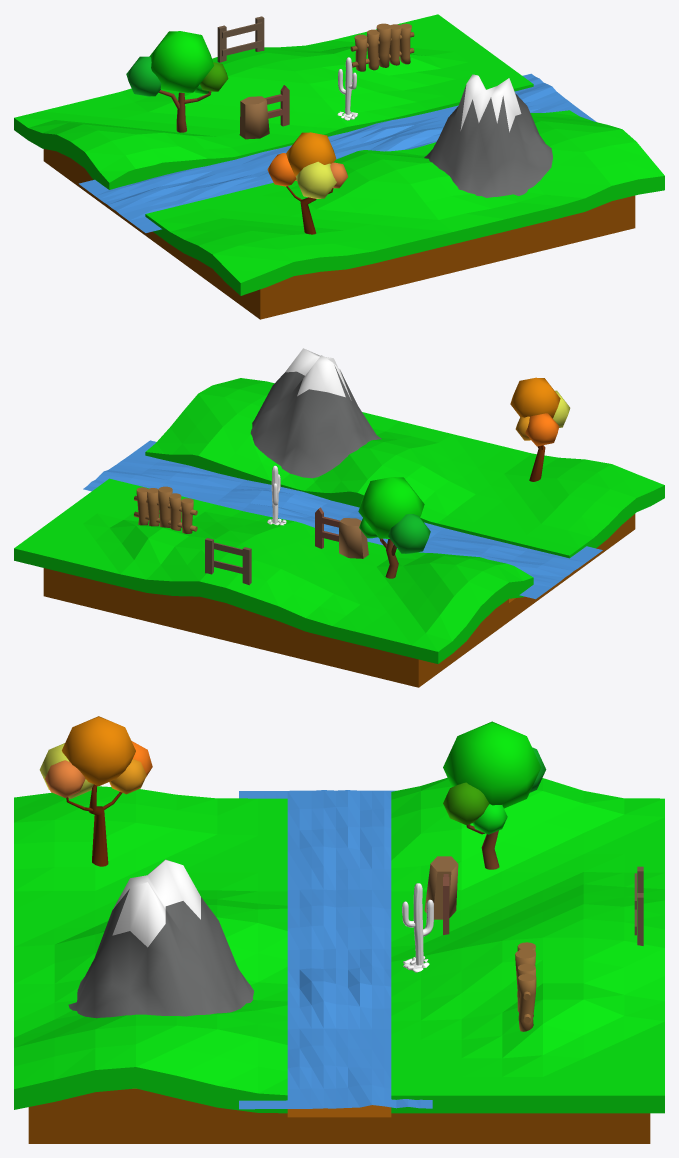
The picture shows the model from 3 angles, top to bottom: view 1: azimuth 30°, elevation 25°; view 2: azimuth 150°, elevation 25°; view 3: azimuth 270°, elevation 25°; orthographic projection. The views are drawn at different scales.
Visible parts, largest first — view 1: Dirt, hill, leaf_4.001, fence25, leaf_5, bark.002, fence10, leaf, leaf.001, cactus_1.1, leaf_3, fence06 (+3 smaller); view 2: Dirt, hill, leaf_4.001, fence25, leaf_5, leaf.001, fence10, bark.002, leaf_3, fence06, cactus_1.1; view 3: Dirt, hill, leaf_4.001, leaf_5, fence25, cactus_1.1, bark.002, leaf_3.001, bark, leaf_4, leaf_2, fence10 (+2 smaller).
Boxes of the visible parts, left/top/right/bottom form: Dirt: left=14, top=14, right=664, bottom=319; hill: left=424, top=74, right=552, bottom=197; leaf_4.001: left=149, top=31, right=213, bottom=92; fence25: left=350, top=23, right=414, bottom=71; leaf_5: left=286, top=132, right=336, bottom=176; bark.002: left=239, top=96, right=269, bottom=139; fence10: left=217, top=16, right=264, bottom=62; leaf: left=296, top=161, right=336, bottom=198; leaf.001: left=126, top=56, right=161, bottom=96; cactus_1.1: left=337, top=57, right=358, bottom=120; leaf_3: left=267, top=153, right=296, bottom=186; fence06: left=264, top=85, right=289, bottom=126; Dirt: left=14, top=378, right=664, bottom=687; hill: left=250, top=348, right=381, bottom=478; leaf_4.001: left=358, top=477, right=424, bottom=538; fence25: left=134, top=486, right=197, bottom=533; leaf_5: left=510, top=377, right=560, bottom=418; leaf.001: left=388, top=514, right=430, bottom=553; fence10: left=205, top=538, right=251, bottom=585; bark.002: left=339, top=518, right=368, bottom=558; leaf_3: left=525, top=413, right=559, bottom=446; fence06: left=315, top=507, right=339, bottom=548; cactus_1.1: left=267, top=465, right=286, bottom=525; Dirt: left=14, top=777, right=664, bottom=1143; hill: left=68, top=859, right=253, bottom=1018; leaf_4.001: left=443, top=721, right=541, bottom=808; leaf_5: left=62, top=716, right=135, bottom=786; fence25: left=515, top=942, right=536, bottom=1031; cactus_1.1: left=402, top=883, right=433, bottom=972; bark.002: left=424, top=856, right=458, bottom=919; leaf_3.001: left=443, top=782, right=489, bottom=825; bark: left=66, top=784, right=122, bottom=866; leaf_4: left=45, top=760, right=85, bottom=797; leaf_2: left=109, top=759, right=146, bottom=794; fence10: left=634, top=866, right=643, bottom=945.
Bounding box in the file's own units: 14.49 × 4.61 × 12.56.
